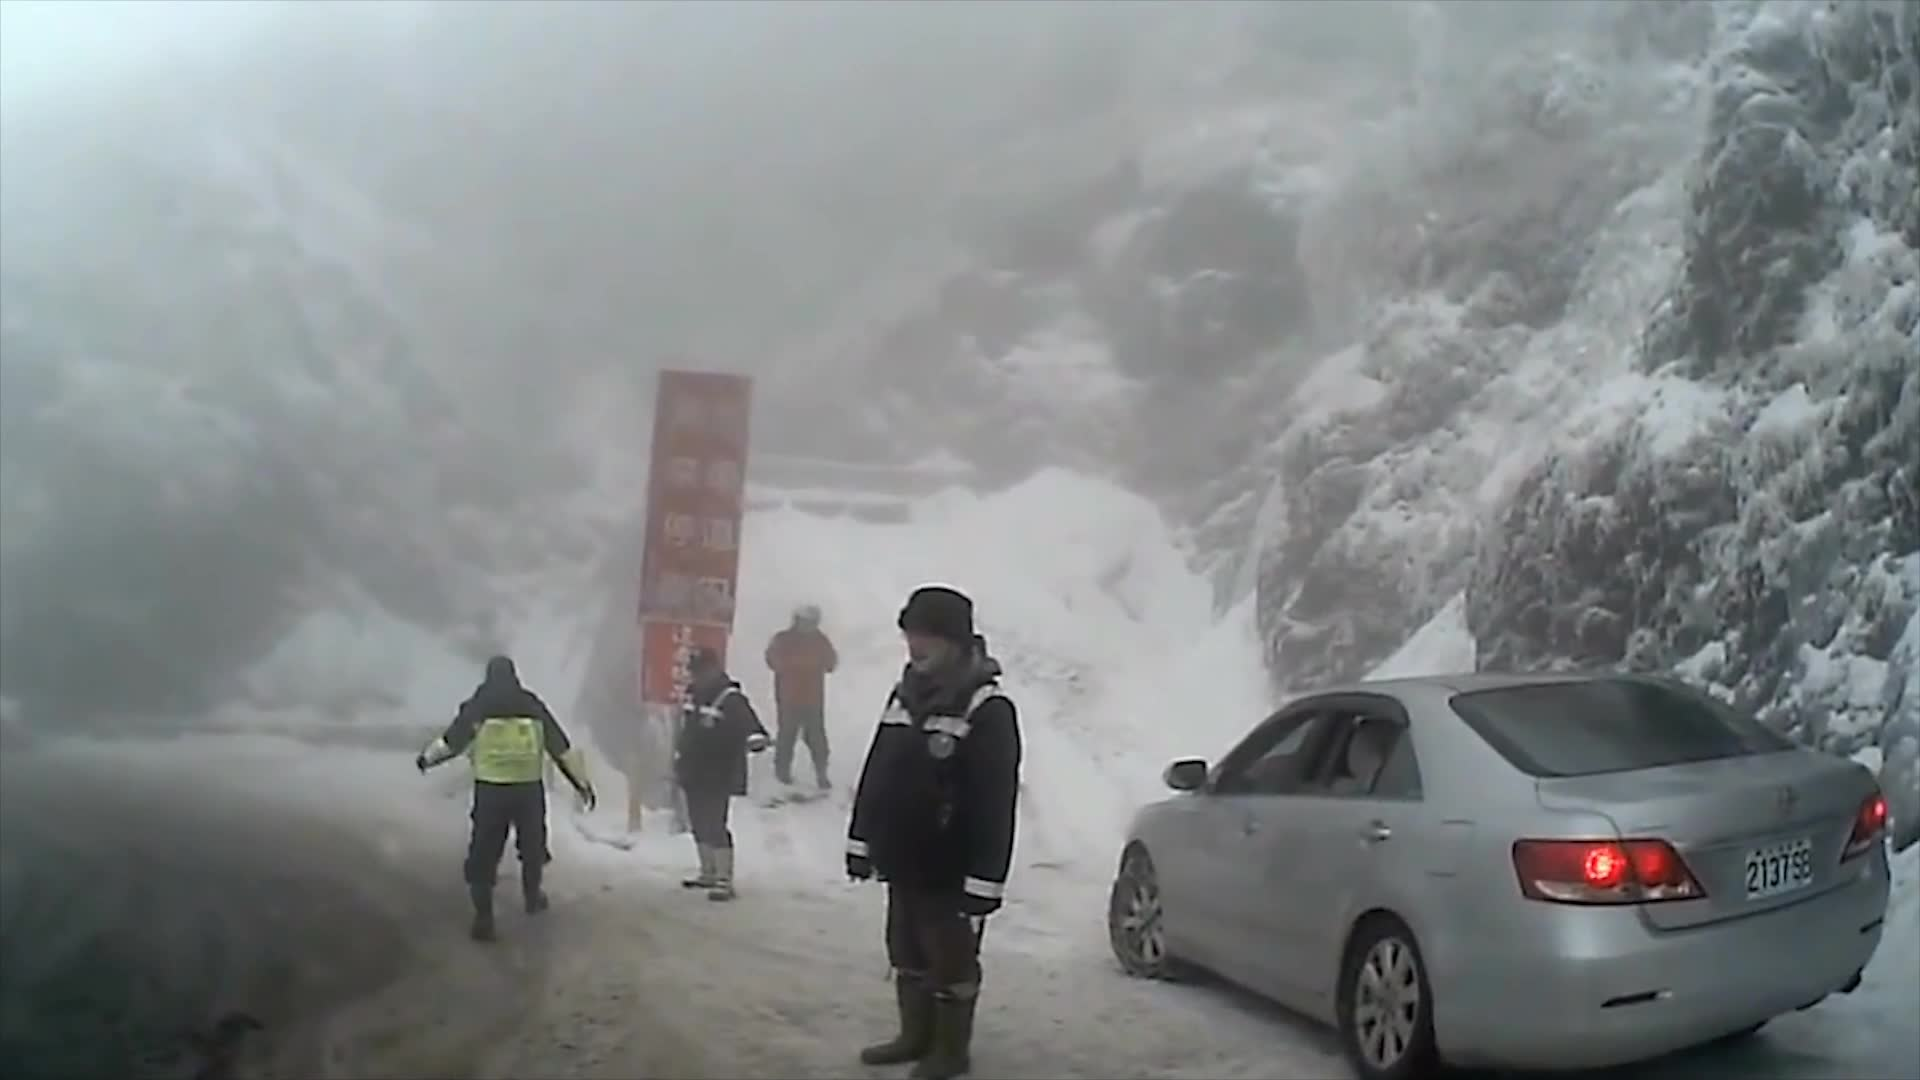pedestrian: (841, 591, 1024, 1080), (438, 670, 593, 943), (675, 651, 773, 906), (772, 610, 841, 802)
vehicle: (1111, 677, 1893, 1080)
